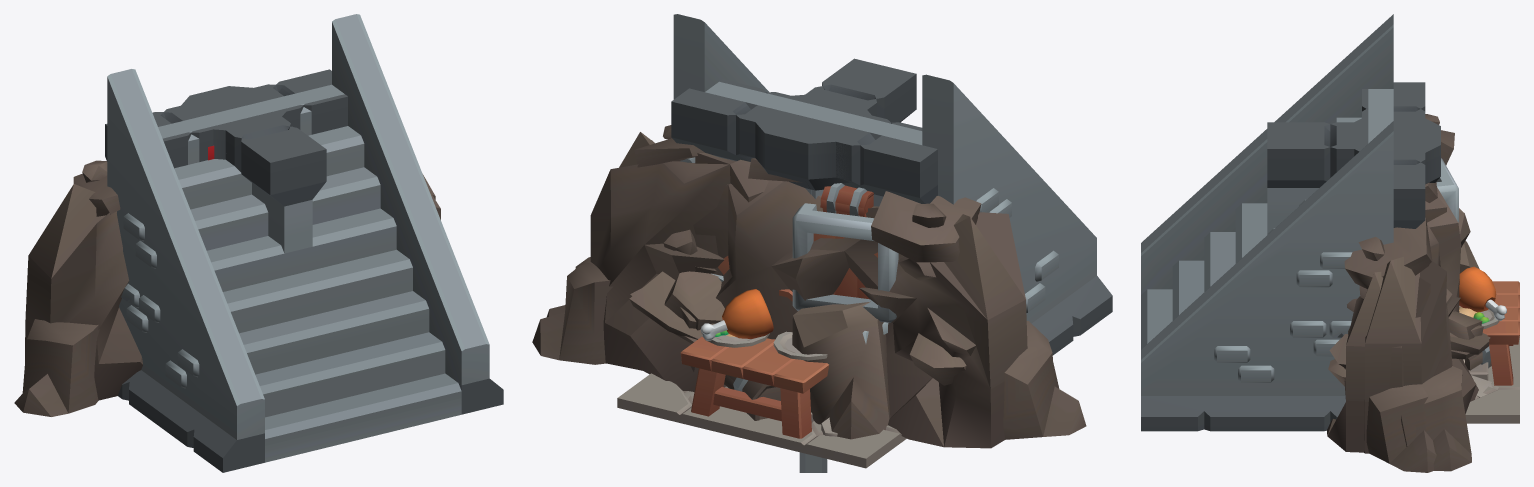
Rendered from props.glb.
3 renders of one model, left to right at view 1: azimuth 30°, elevation 25°; view 2: azimuth 150°, elevation 25°; view 3: azimuth 270°, elevation 25°, orthographic. The views are drawn at different scales.
Parts seen in each view (by area): view 1: stairs, rubble_large, wall_corner, wall_arched, wall_pillar; view 2: rubble_large, rubble_half, stairs, table_long_decorated_A, box_stacked, floor_tile_large, wall_pillar, wall_arched, wall_corner, wall, wall_half, pillar; view 3: stairs, rubble_half, rubble_large, wall_corner, table_long_decorated_A, wall_arched, wall, floor_tile_large, box_stacked, wall_pillar, floor_dirt_large_rocky.
Boxes of the visible parts, <box> form: stairs: <box>107,14,503,472</box>; rubble_large: <box>14,160,440,416</box>; wall_corner: <box>188,117,326,253</box>; wall_arched: <box>105,69,347,168</box>; wall_pillar: <box>166,86,286,159</box>; rubble_large: <box>547,140,1086,448</box>; rubble_half: <box>532,125,768,391</box>; stairs: <box>673,14,1112,355</box>; table_long_decorated_A: <box>680,289,828,438</box>; box_stacked: <box>711,183,898,420</box>; floor_tile_large: <box>617,373,906,468</box>; wall_pillar: <box>727,93,924,203</box>; wall_arched: <box>671,79,937,203</box>; wall_corner: <box>802,58,924,206</box>; wall: <box>727,93,937,203</box>; wall_half: <box>671,101,755,161</box>; pillar: <box>763,95,863,182</box>; stairs: <box>1141,14,1393,431</box>; rubble_half: <box>1344,198,1489,471</box>; rubble_large: <box>1326,114,1490,472</box>; wall_corner: <box>1267,106,1415,233</box>; table_long_decorated_A: <box>1459,266,1519,385</box>; wall_arched: <box>1362,82,1425,227</box>; wall: <box>1362,137,1425,228</box>; floor_tile_large: <box>1465,336,1519,416</box>; box_stacked: <box>1436,158,1491,370</box>; wall_pillar: <box>1346,118,1440,184</box>; floor_dirt_large_rocky: <box>1466,375,1519,423</box>.
Bounding box in the file's own units: 8.13 × 6.1 × 6.
2 materials, 2 textured.
